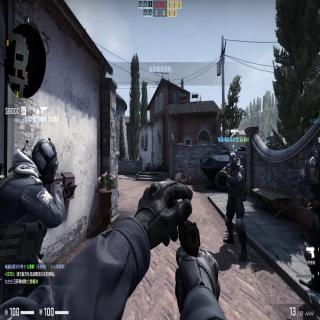CT-Body: (218, 152, 250, 262)
CT-Head: (28, 137, 58, 184), (227, 153, 237, 166)
